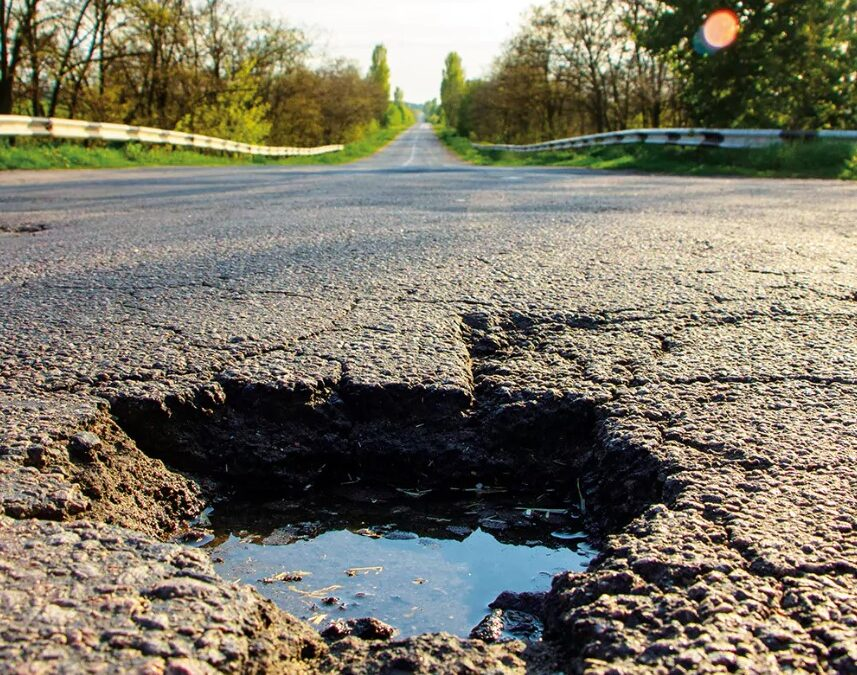Hole_in_the_road: (47, 340, 690, 648)
Tree: (605, 1, 788, 102), (185, 18, 267, 144), (363, 41, 409, 139), (430, 45, 471, 132)
